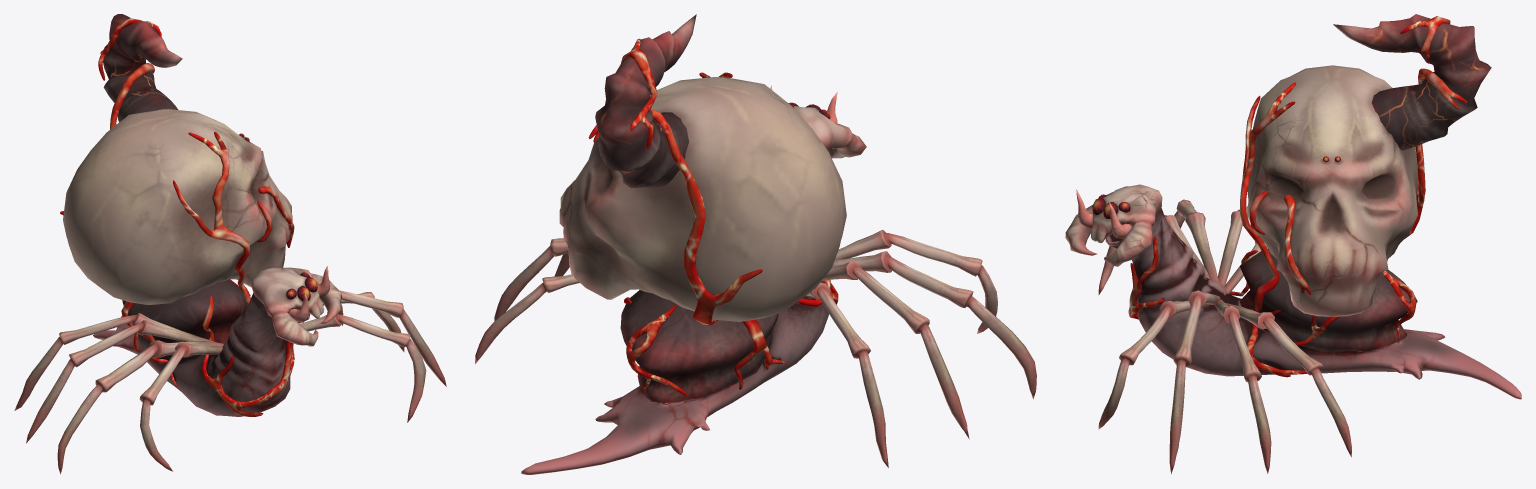
The model's file is Snailder_pose.fbx.
3 views of the same model, side by side, from view 1: azimuth 30°, elevation 25°; view 2: azimuth 150°, elevation 25°; view 3: azimuth 270°, elevation 25° (orthographic). The views are drawn at different scales.
Parts seen in each view (by area): view 1: snailder_low1; view 2: snailder_low1; view 3: snailder_low1.
Part boxes in pixels (x1,y1,x2,y2): snailder_low1: (14, 14, 446, 474); snailder_low1: (475, 14, 1036, 474); snailder_low1: (1065, 14, 1521, 474).
Size of the model in its own units: 124 by 100 by 115.
